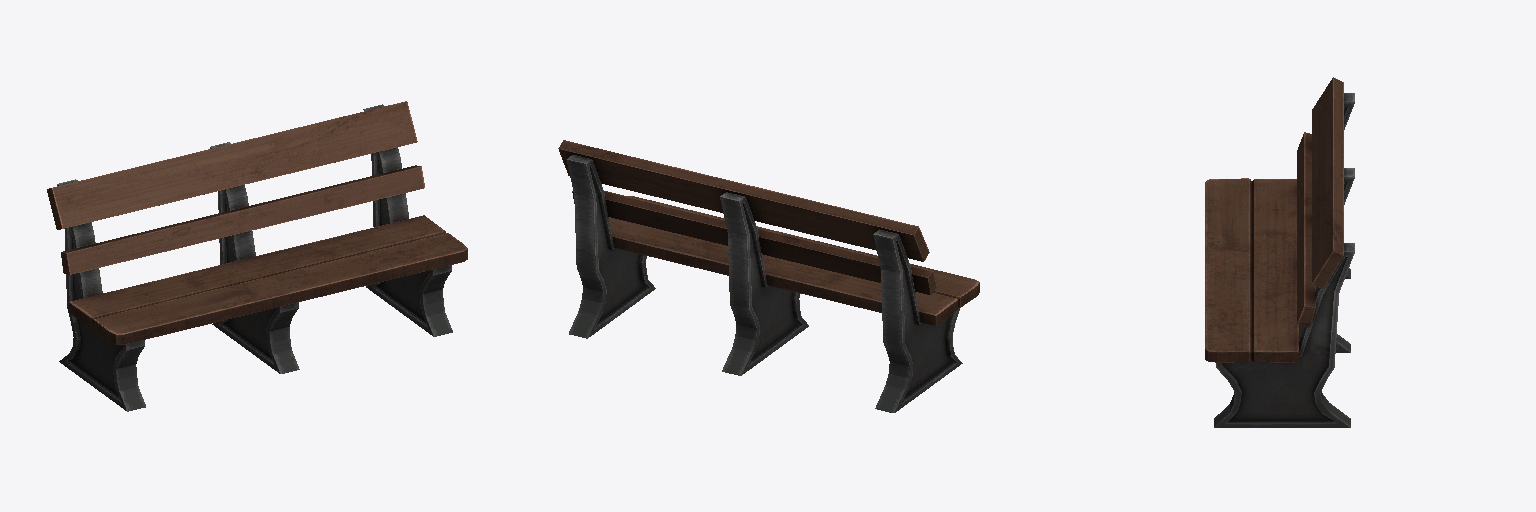
3 renders of one model, left to right at view 1: azimuth 30°, elevation 25°; view 2: azimuth 150°, elevation 25°; view 3: azimuth 270°, elevation 25°, orthographic.
Parts seen in each view (by area): view 1: Model_Bench; view 2: Model_Bench; view 3: Model_Bench.
Part boxes in pixels (x1,y1,x2,y2): Model_Bench: (47, 101, 467, 411); Model_Bench: (558, 140, 979, 412); Model_Bench: (1205, 77, 1354, 427).
Bounding box in the file's own units: 1.87 × 0.9265 × 0.6841.
Materials: 1 (1 with a texture image).